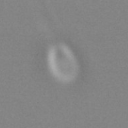normal: (33, 1, 66, 42)
